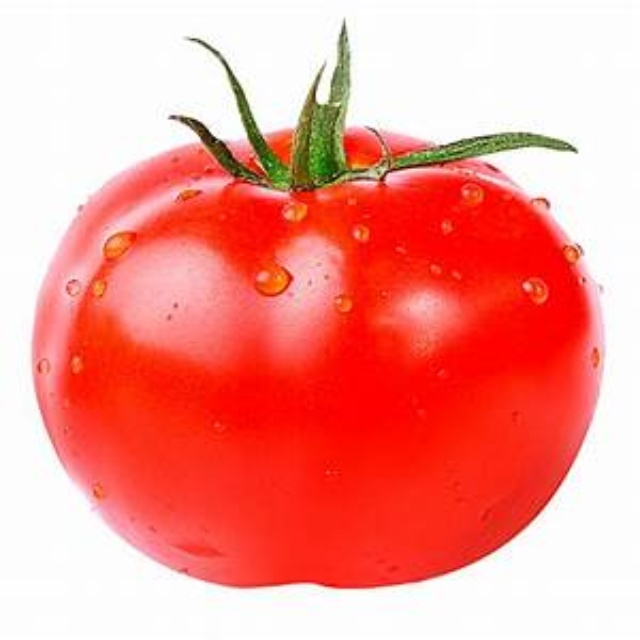tomato: (31, 43, 605, 586)
